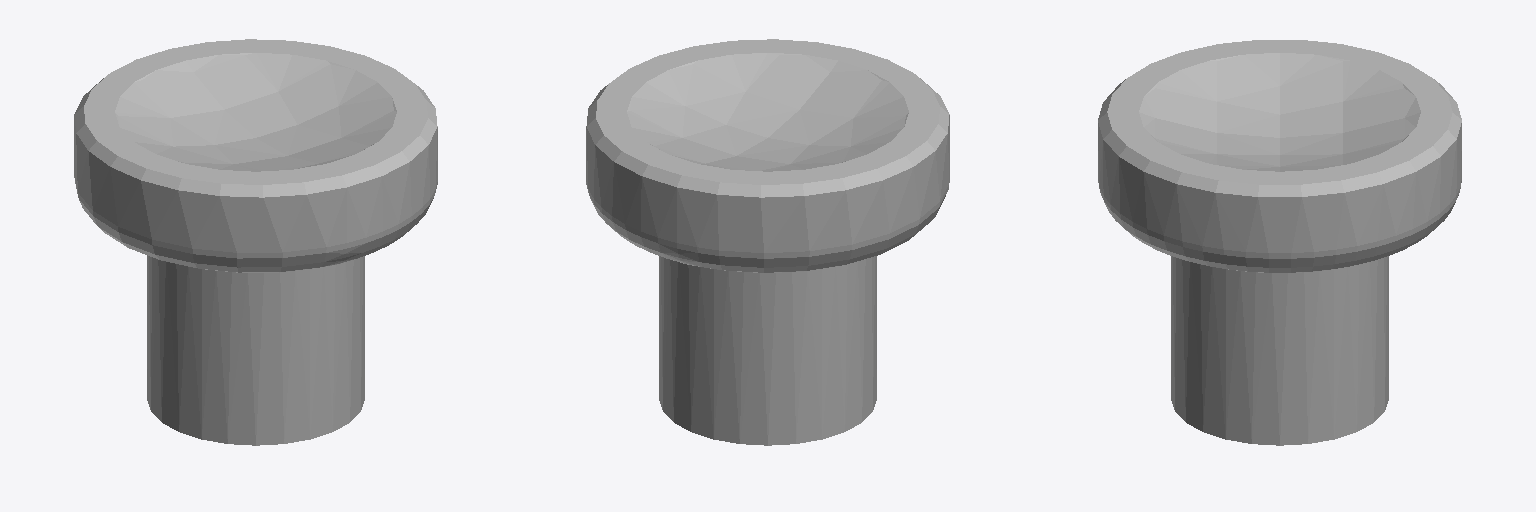
The picture shows the model from 3 angles: view 1: azimuth 30°, elevation 25°; view 2: azimuth 150°, elevation 25°; view 3: azimuth 270°, elevation 25°; orthographic projection.
Parts seen in each view (by area): view 1: gn_676_5-31-m10-b_1; view 2: gn_676_5-31-m10-b_1; view 3: gn_676_5-31-m10-b_1.
Part boxes in pixels (bbox=[...]): gn_676_5-31-m10-b_1: bbox=[74, 39, 437, 445]; gn_676_5-31-m10-b_1: bbox=[586, 39, 949, 445]; gn_676_5-31-m10-b_1: bbox=[1098, 40, 1461, 445].
Size of the model in its own units: 30.94 by 27 by 31.